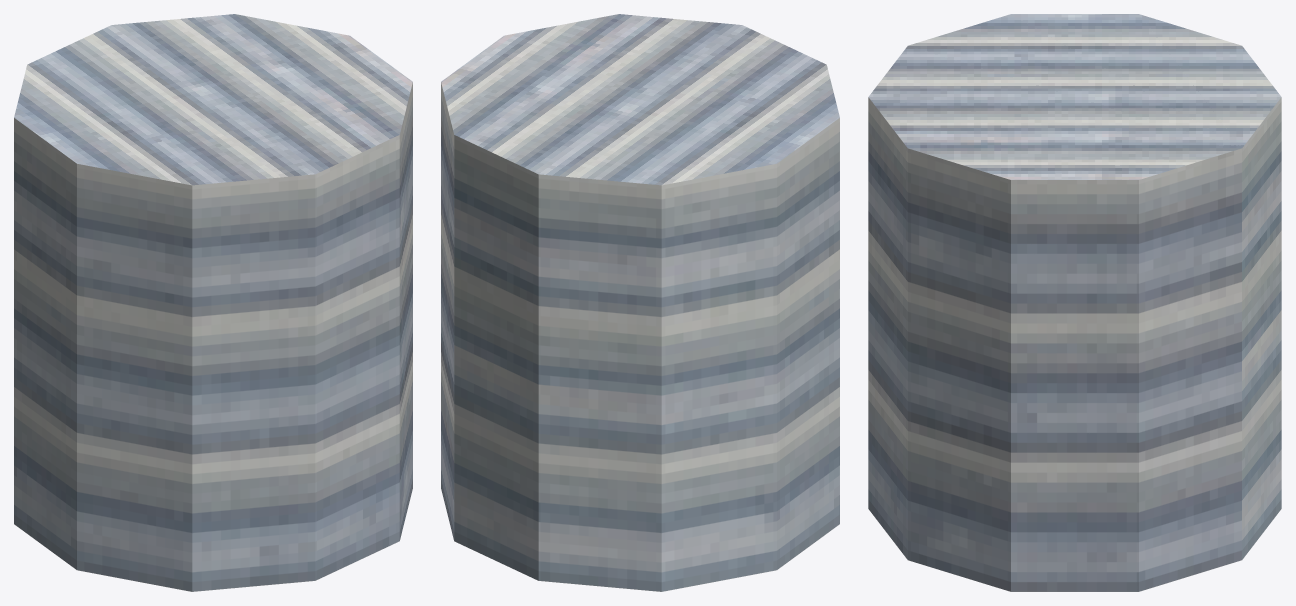
File: can_1.fbx
The picture shows the model from 3 angles, left to right: view 1: azimuth 30°, elevation 25°; view 2: azimuth 150°, elevation 25°; view 3: azimuth 270°, elevation 25°; orthographic projection.
Parts seen in each view (by area): view 1: Can 1; view 2: Can 1; view 3: Can 1.
Part boxes in pixels (x1,y1,x2,y2): Can 1: [14, 14, 412, 591]; Can 1: [441, 14, 839, 591]; Can 1: [868, 14, 1281, 591].
Size of the model in its own units: 45.68 by 52.83 by 48.04.
